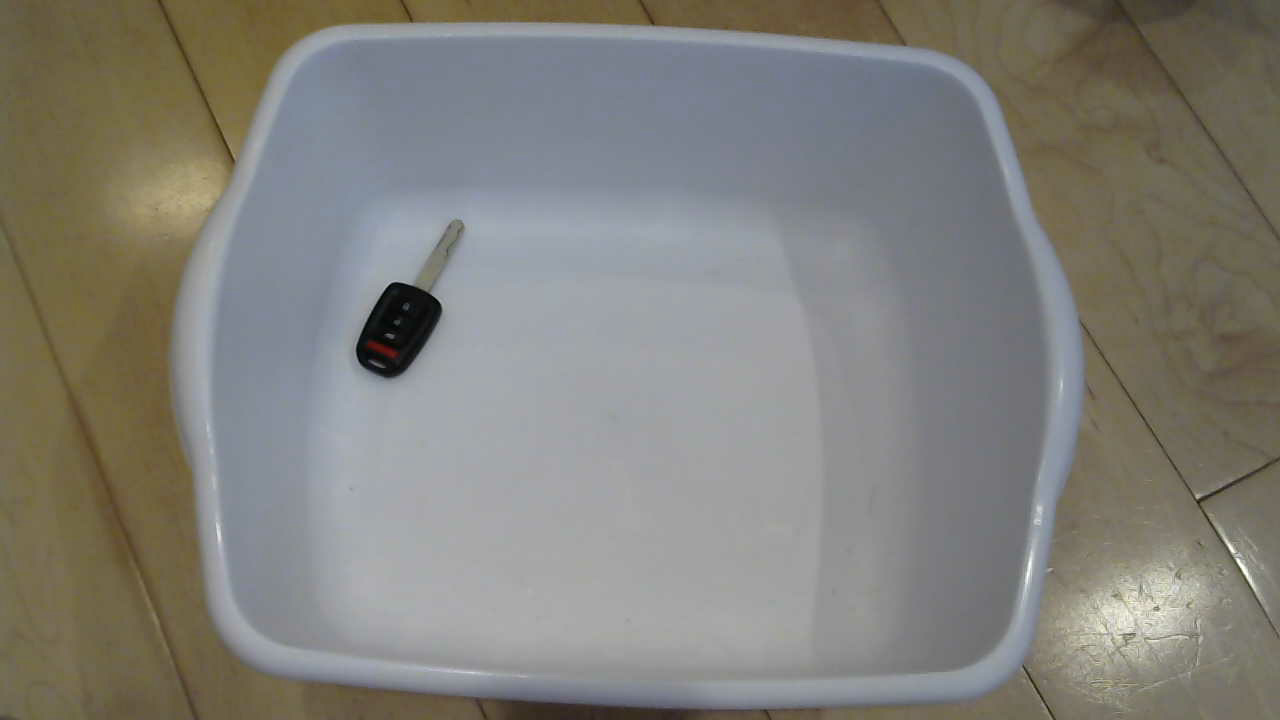key: (338, 215, 492, 389)
